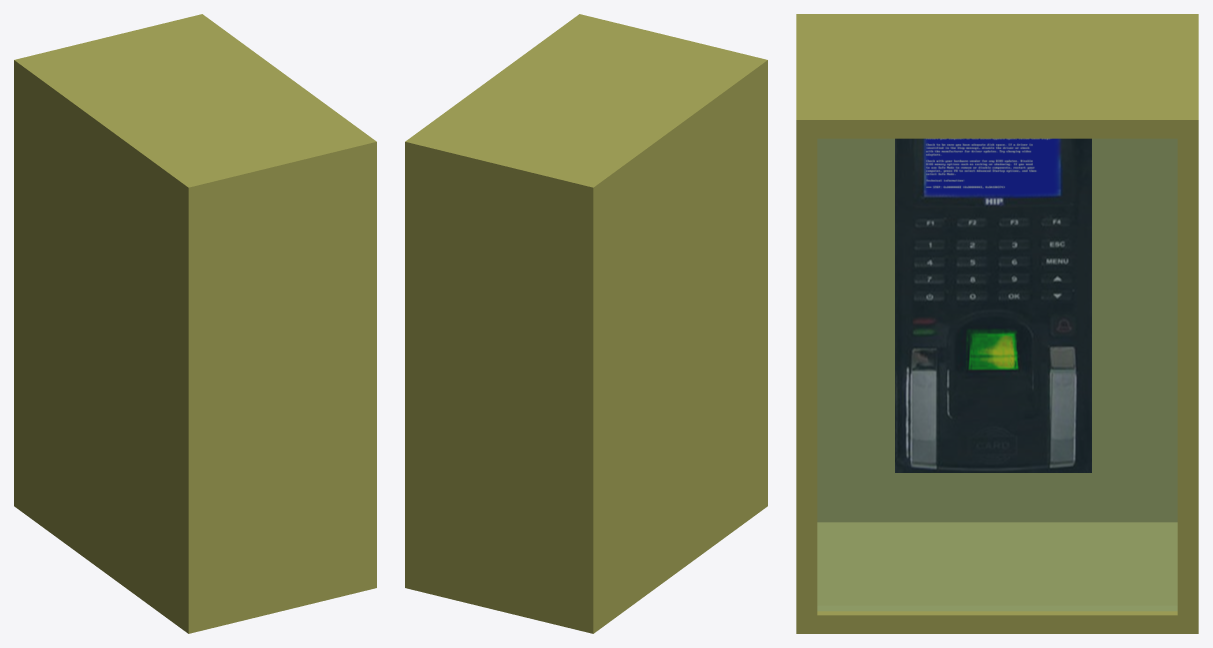
File: PasswordBox.fbx
3 renders of one model, left to right at view 1: azimuth 30°, elevation 25°; view 2: azimuth 150°, elevation 25°; view 3: azimuth 270°, elevation 25°, orthographic. The views are drawn at different scales.
Parts seen in each view (by area): view 1: PasswordBox; view 2: PasswordBox; view 3: PasswordBox.
Part boxes in pixels (x1=…): PasswordBox: x1=14, y1=14, x2=376, y2=633; PasswordBox: x1=405, y1=14, x2=767, y2=633; PasswordBox: x1=796, y1=14, x2=1198, y2=633.
Bounding box in the file's own units: 0.3766 × 0.8528 × 0.6044.
Materials: 4 (1 with a texture image).
